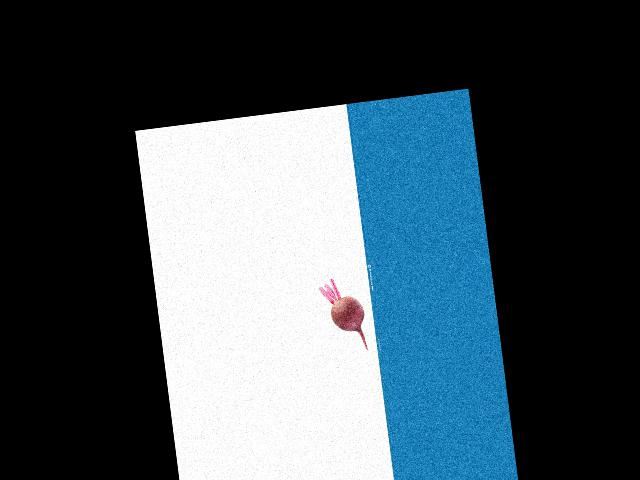beet: (318, 275, 368, 354)
